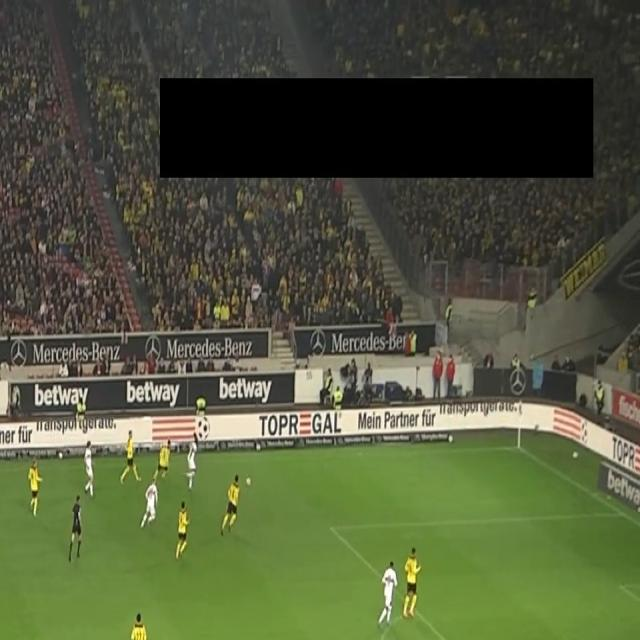ball: (245, 475, 252, 487)
